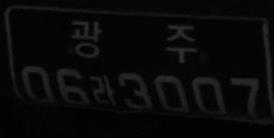0: (190, 75, 226, 118), (20, 64, 54, 107), (154, 73, 189, 114)
3: (117, 71, 153, 112)
6: (55, 66, 89, 108)
7: (229, 76, 263, 123)
광주_D: (70, 16, 197, 65)
라: (89, 73, 115, 107)
